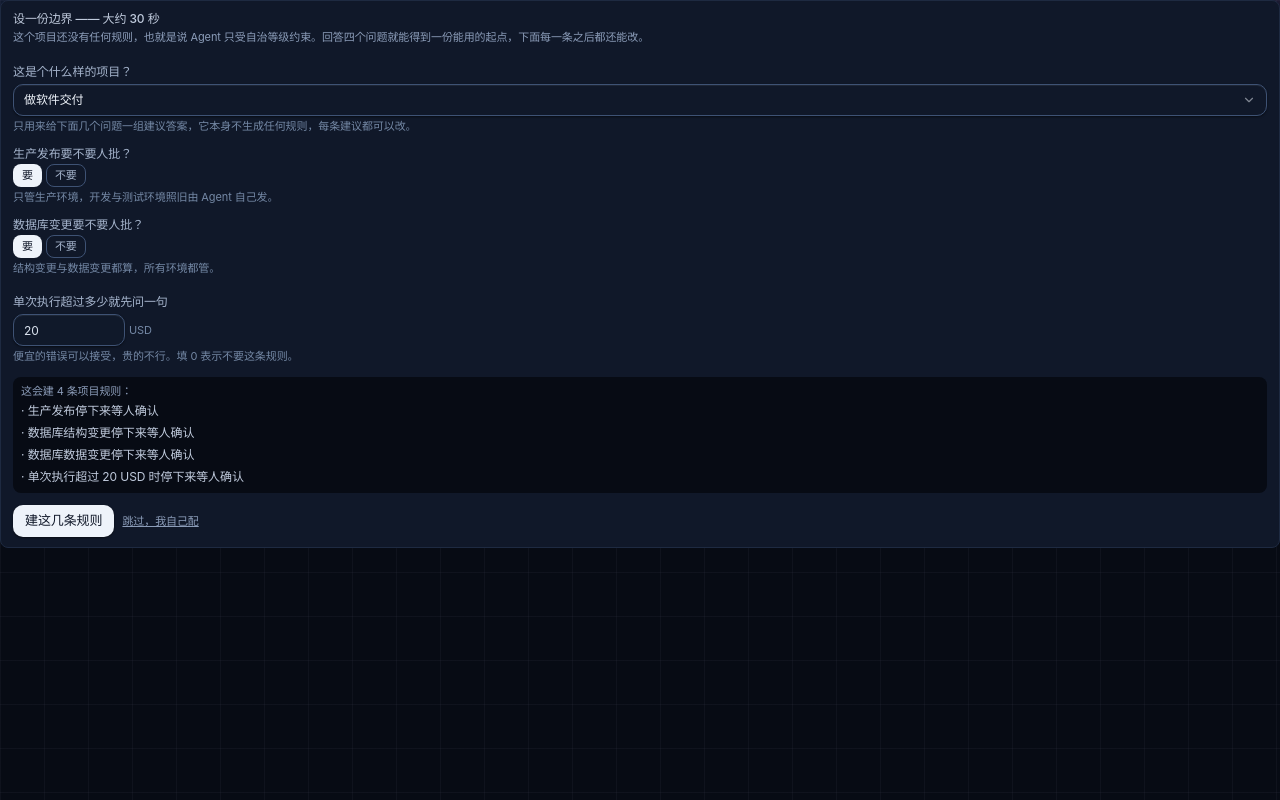
首次引导向导 › ★ 答案改了预览跟着变
Step 1. Click the radio button labelled "不要" below "数据库变更要不要人批？" → (66, 246), box [46,235,86,258]
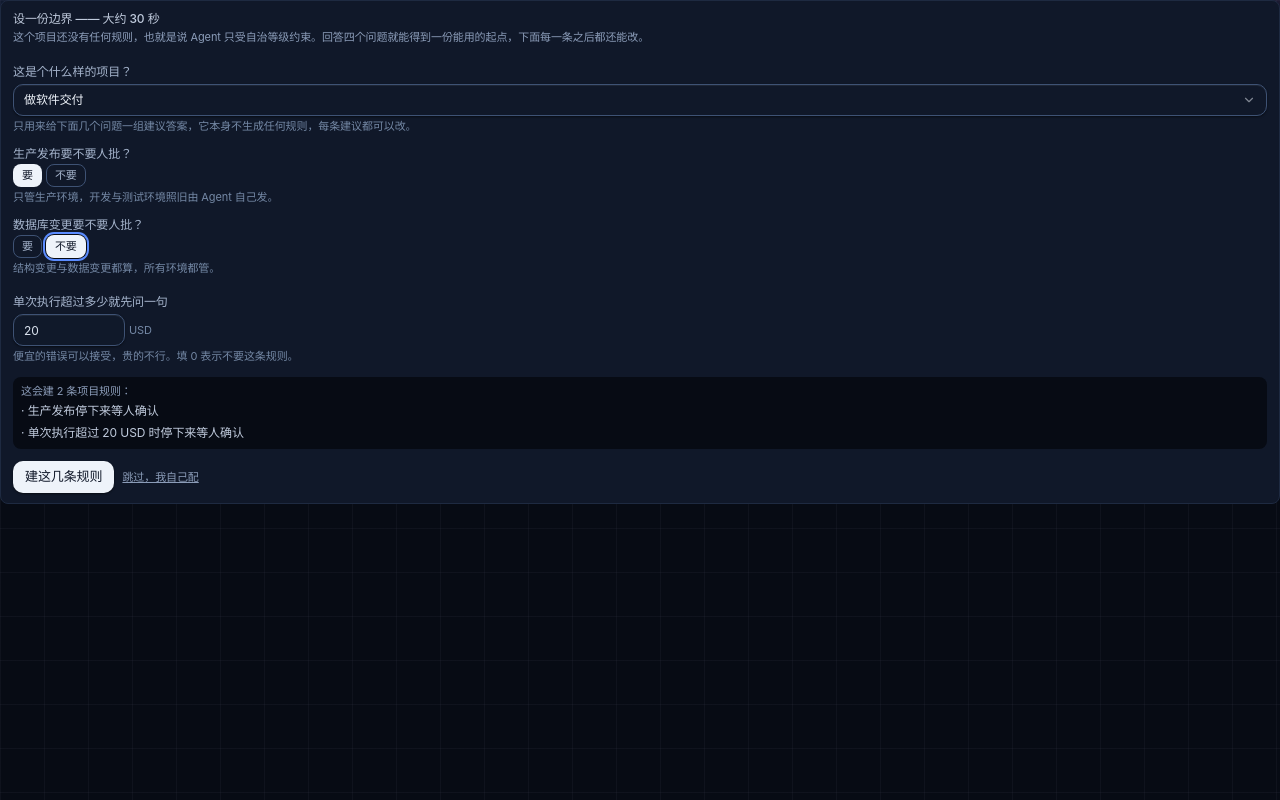
Expected: the list item "· 生产发布停下来等人确认" is shown, [21,403,159,418]
Result: the text "这会建 2 条项目规则：" is shown at [21,384,132,398]
Result: the list item "数据库结构变更停下来等人确认" is gone
